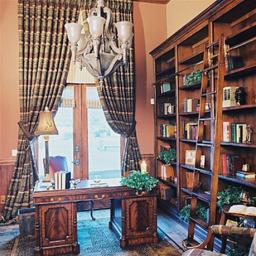Bote de Basura: (18, 203, 37, 237)
Puerta: (28, 76, 122, 204)
